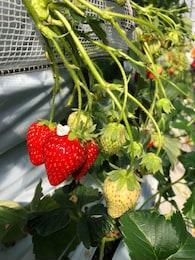Fresa: (42, 124, 87, 188), (24, 117, 58, 167)
